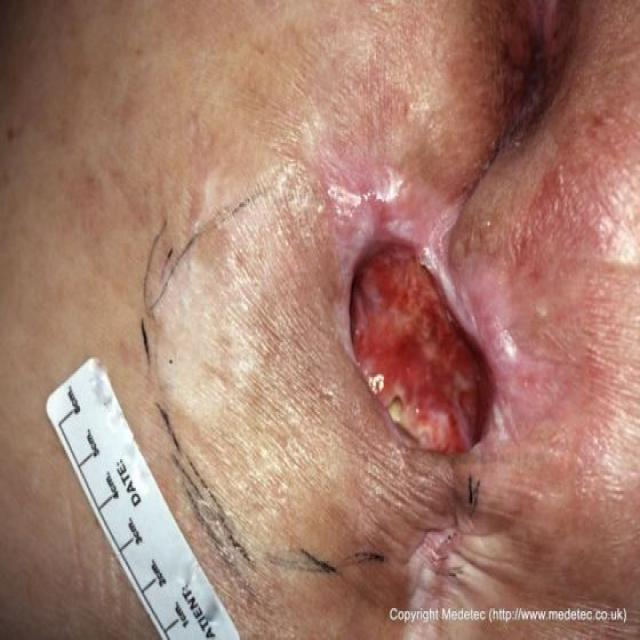stage-3: (350, 239, 492, 453)
